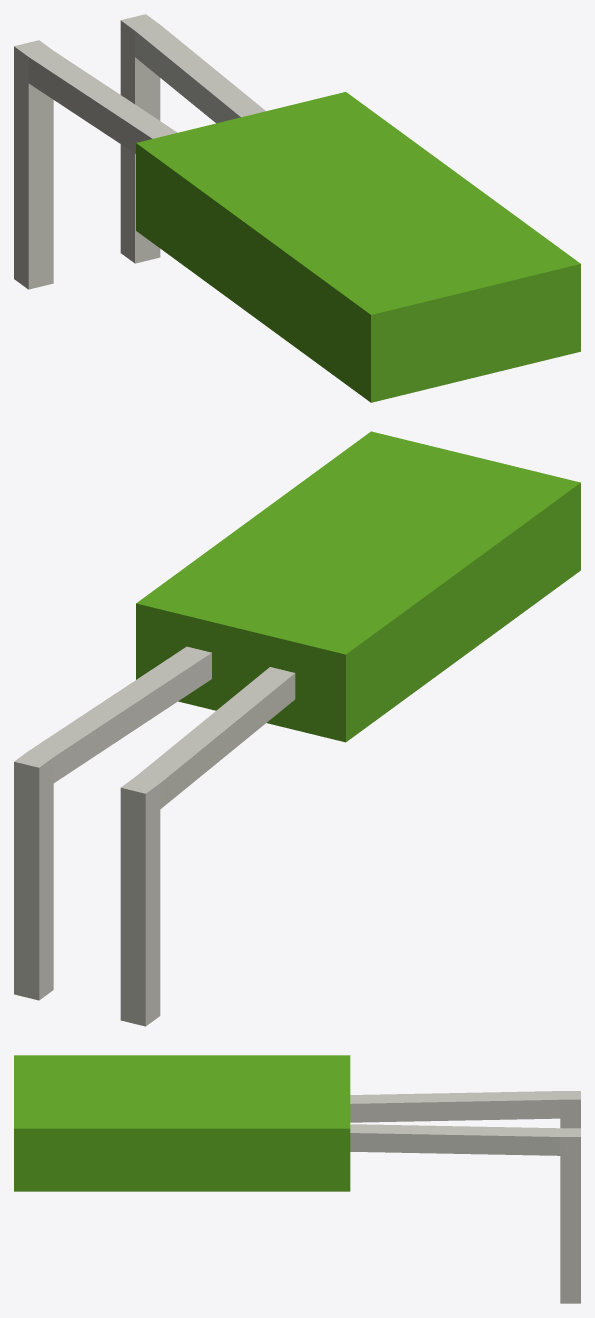
Rendered from kc-led_rectangular_w5.0mm_h2.0mm_horizontal_o6.35mm_z3.0mm.glb.
The picture shows the model from 3 angles, top to bottom: view 1: azimuth 30°, elevation 25°; view 2: azimuth 150°, elevation 25°; view 3: azimuth 270°, elevation 25°; orthographic projection. The views are drawn at different scales.
Parts seen in each view (by area): view 1: 0.16666666666666666_0.4166666666666667_0_0, 0.6666666666666666_0.6666666666666666_0.5833333333333334_0.8; view 2: 0.16666666666666666_0.4166666666666667_0_0, 0.6666666666666666_0.6666666666666666_0.5833333333333334_0.8; view 3: 0.16666666666666666_0.4166666666666667_0_0, 0.6666666666666666_0.6666666666666666_0.5833333333333334_0.8.
Part boxes in pixels (x1,y1,x2,y2): 0.16666666666666666_0.4166666666666667_0_0: (136,92,580,402); 0.6666666666666666_0.6666666666666666_0.5833333333333334_0.8: (14,14,265,289); 0.16666666666666666_0.4166666666666667_0_0: (136,431,580,742); 0.6666666666666666_0.6666666666666666_0.5833333333333334_0.8: (14,646,295,1026); 0.16666666666666666_0.4166666666666667_0_0: (14,1055,350,1191); 0.6666666666666666_0.6666666666666666_0.5833333333333334_0.8: (350,1091,580,1303).
Size of the model in its own units: 0.5 by 0.6 by 1.63.
